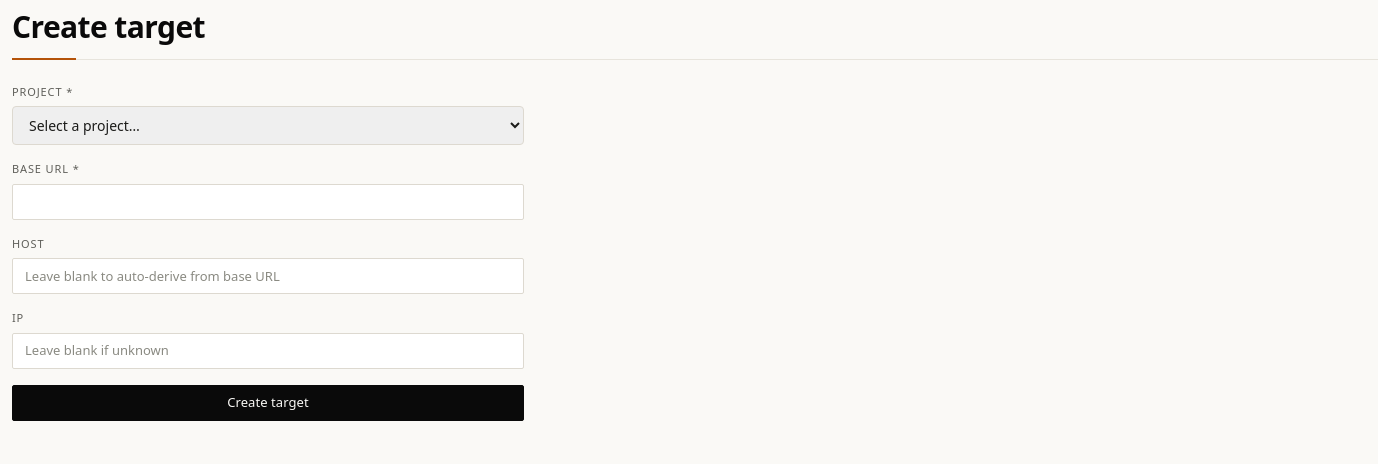
Test: CreateTarget — base_url validation (no network call) › rejects empty base_url
Select "Local Lab" in the dropdown labelled "Project *". click: x=268, y=126
box: [12,106,524,145]
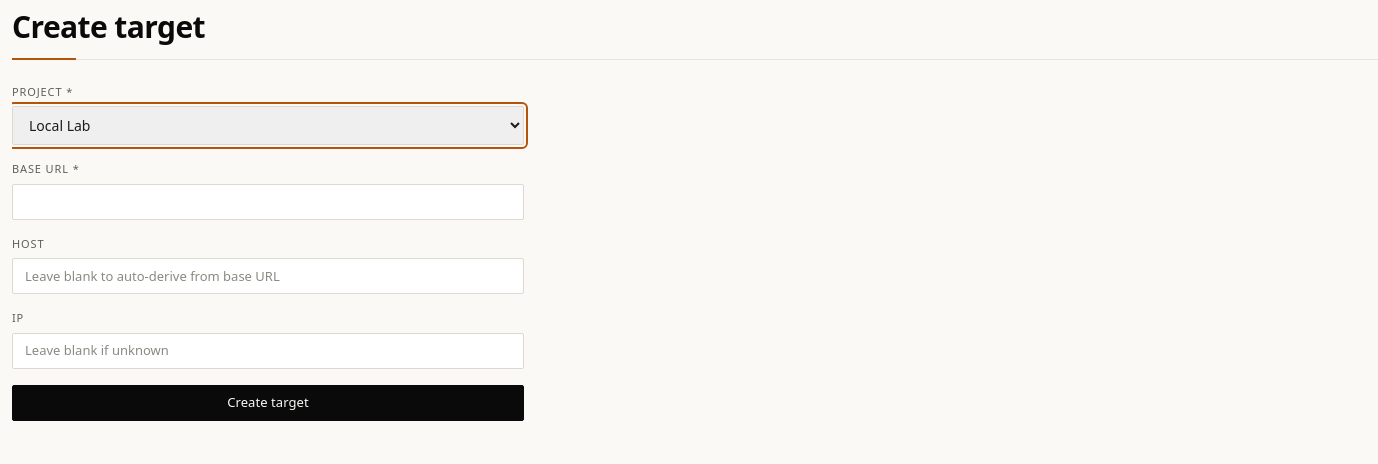
Click the button "Create target". click: x=268, y=402
box: [12,384,524,420]
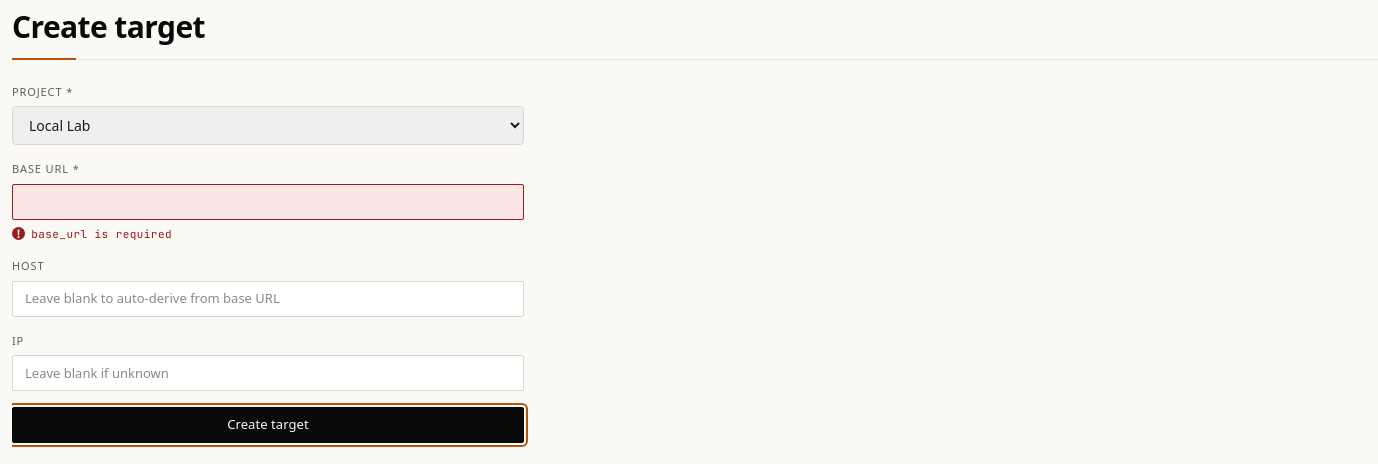
Expected: the text "base_url is required" is shown, [31,226,172,240]
